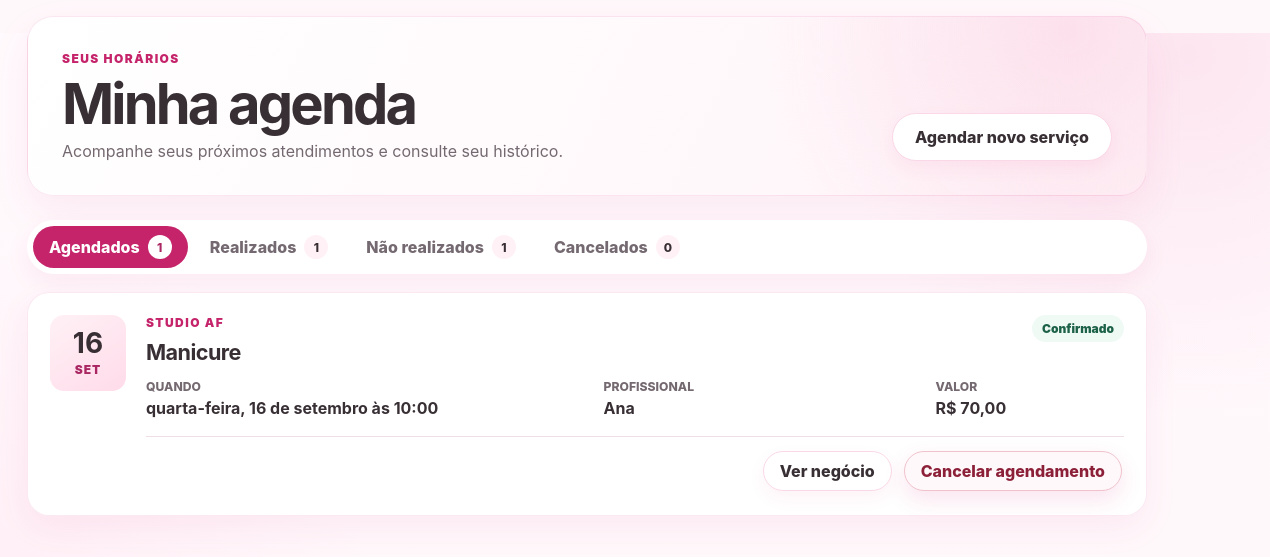
Test: histórico real da cliente › separa falta em Não realizados e oferece novo agendamento
The width and height of the screenshot is (1270, 557).
Click the tab "Não realizados 1" at [441, 247], box left=350, top=226, right=532, bottom=268
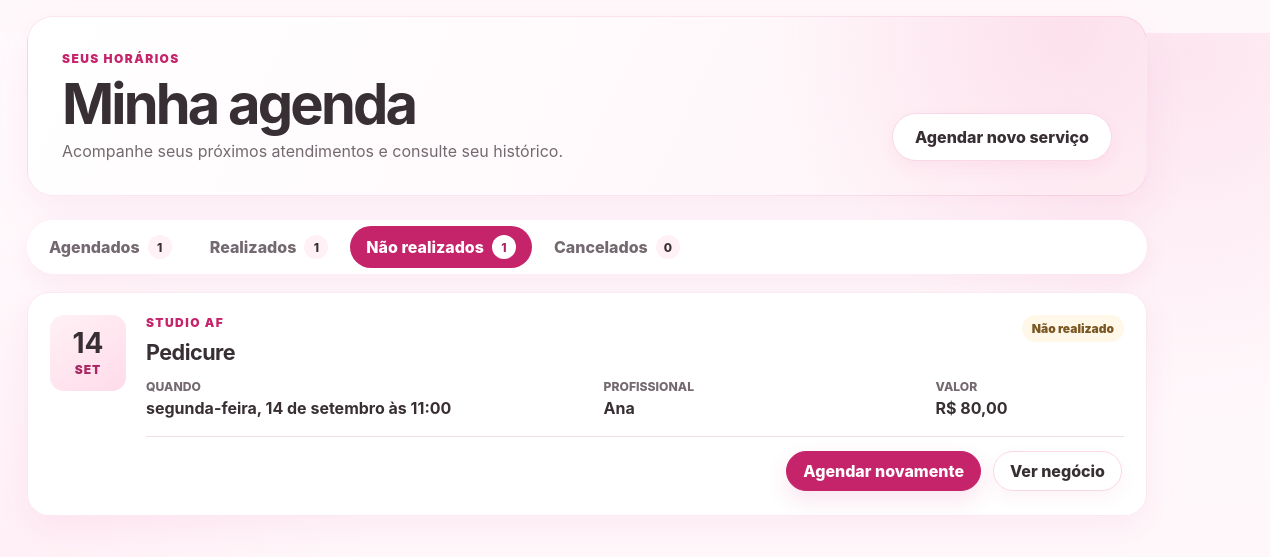
Check: the text "Não realizado" is shown, box left=1022, top=315, right=1124, bottom=342
Check: the heading "Pedicure" is shown, box left=146, top=339, right=235, bottom=365
